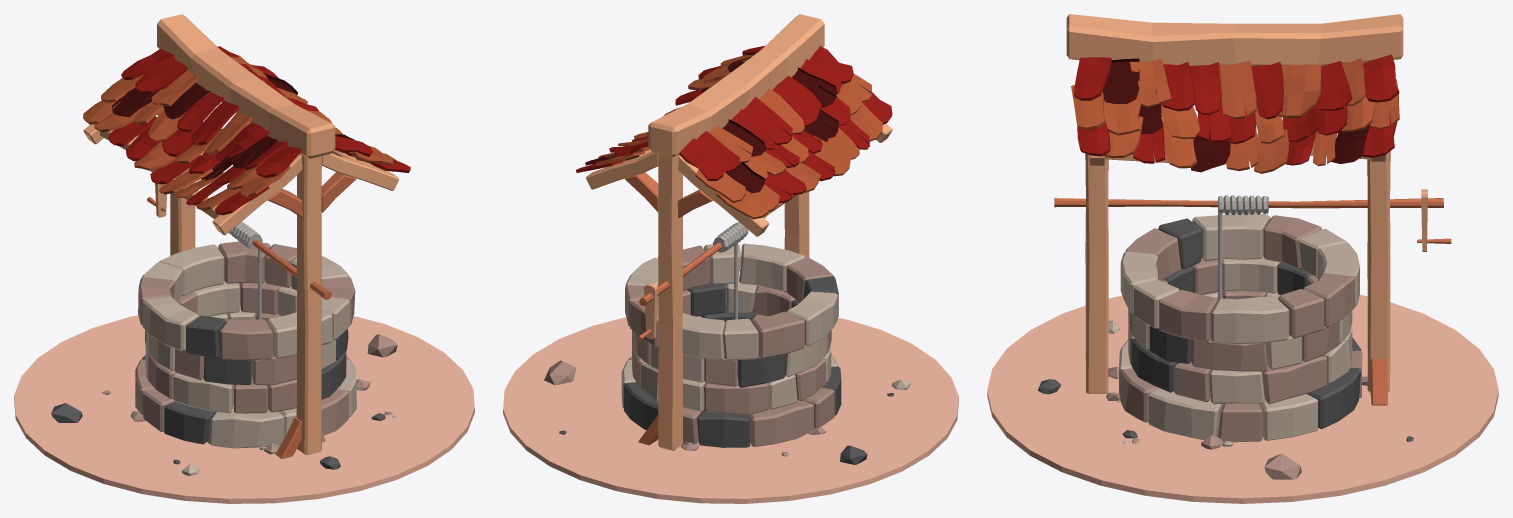
Rendered from low polly well.fbx.
3 renders of one model, left to right at view 1: azimuth 30°, elevation 25°; view 2: azimuth 150°, elevation 25°; view 3: azimuth 270°, elevation 25°, orthographic. The views are drawn at different scales.
Visible parts, largest first — view 1: Cylinder.004, Plane.001, Cube.003, Cube.006, Cube.002, Cube, Cube.004, Cube.001, Plane.012, Cube.005, Cube.013, Cube.011 (+5 smaller); view 2: Cylinder.004, Plane.001, Cube.003, Cube.006, Cube, Cube.002, Cube.005, Cube.001, Plane.012, Cube.004, Cube.007, Cube.009 (+6 smaller); view 3: Cylinder.004, Plane.012, Cube.003, Cube.006, Cube, Cube.002, Cube.001, Cube.004, Cube.005, Cylinder, Cylinder.002, Cube.018 (+1 smaller).
Part boxes in pixels (x1,y1,x2,y2): Cylinder.004: [14, 315, 474, 503]; Plane.001: [83, 49, 301, 215]; Cube.003: [138, 241, 355, 360]; Cube.006: [157, 14, 335, 158]; Cube.002: [145, 280, 348, 384]; Cube: [135, 355, 356, 448]; Cube.004: [296, 154, 321, 454]; Cube.001: [145, 305, 346, 413]; Plane.012: [217, 46, 410, 172]; Cube.005: [170, 167, 195, 255]; Cube.013: [212, 154, 302, 235]; Cube.011: [322, 153, 399, 190]; Cylinder.004: [503, 317, 958, 503]; Plane.001: [679, 46, 892, 219]; Cube.003: [625, 243, 838, 360]; Cube.006: [648, 14, 824, 157]; Cube: [621, 354, 841, 447]; Cube.002: [632, 275, 831, 387]; Cube.005: [658, 153, 682, 450]; Cube.001: [632, 305, 831, 414]; Plane.012: [576, 45, 765, 172]; Cube.004: [784, 192, 809, 257]; Cube.007: [586, 151, 658, 189]; Cube.009: [678, 155, 769, 236]; Cylinder.004: [987, 294, 1498, 503]; Plane.012: [1071, 54, 1399, 173]; Cube.003: [1120, 212, 1359, 344]; Cube.006: [1066, 14, 1403, 65]; Cube: [1119, 337, 1362, 442]; Cube.002: [1128, 255, 1352, 371]; Cube.001: [1128, 289, 1352, 404]; Cube.004: [1085, 153, 1108, 393]; Cube.005: [1367, 151, 1390, 392]; Cylinder: [1054, 198, 1443, 208]; Cylinder.002: [1218, 195, 1268, 215]; Cube.018: [1370, 358, 1387, 405].
Size of the model in its own units: 2878 by 2355 by 2878.
